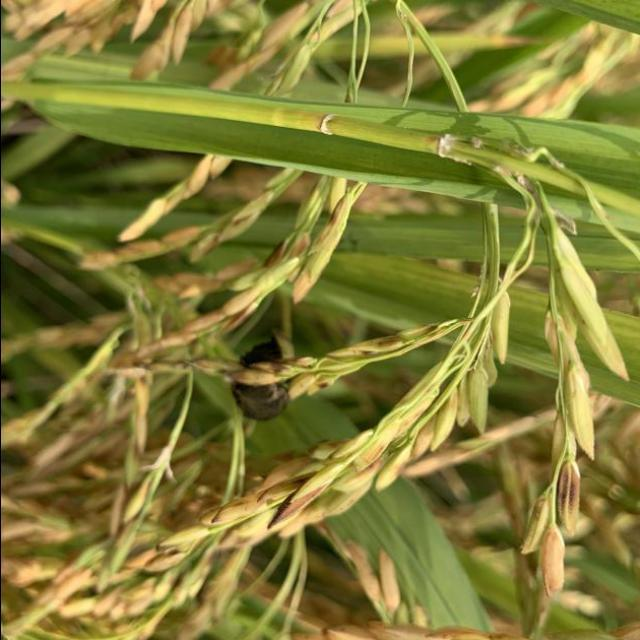Leaf_Scald: (228, 338, 296, 424)
